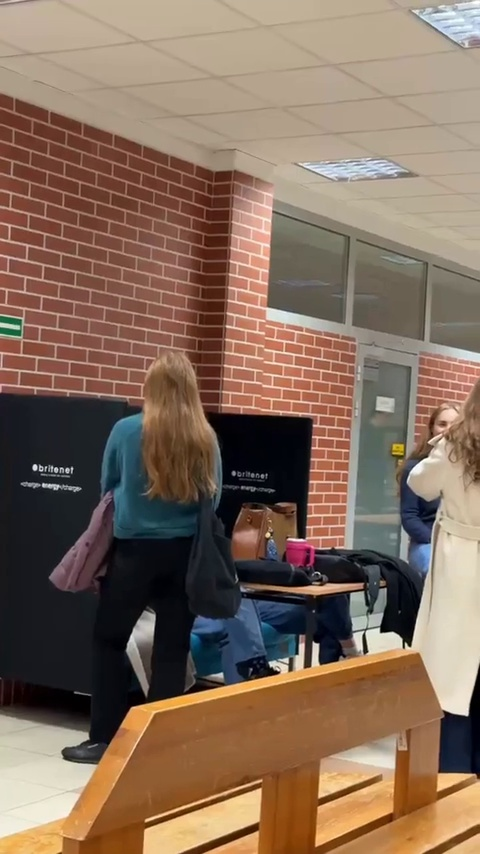no vest: (76, 346, 232, 731), (401, 373, 480, 733)
